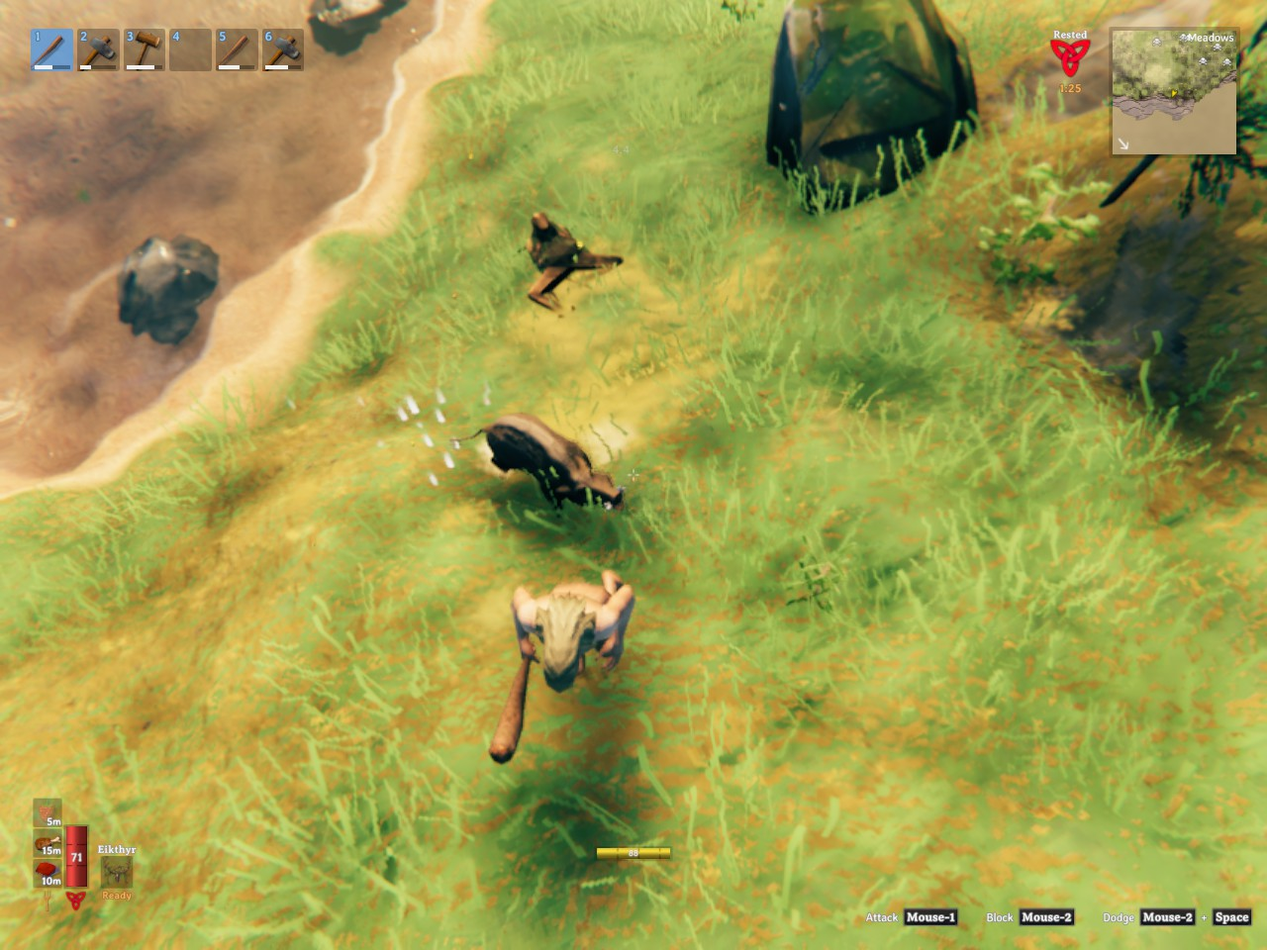Boar: (466, 414, 622, 507)
Food Indicator: (36, 797, 63, 891)
Greyling: (527, 213, 623, 308)
Health Bar: (63, 820, 90, 891)
Hotbar: (25, 21, 398, 78)
Stamina Bar: (591, 841, 674, 863)
Status Indicator: (1039, 25, 1106, 101)
